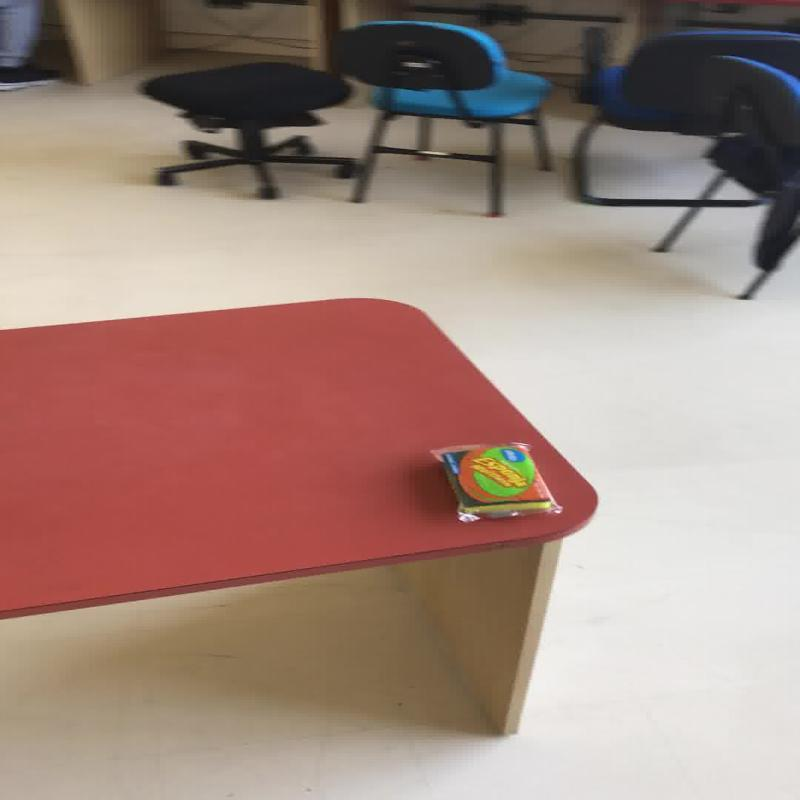sponge: (428, 440, 560, 522)
